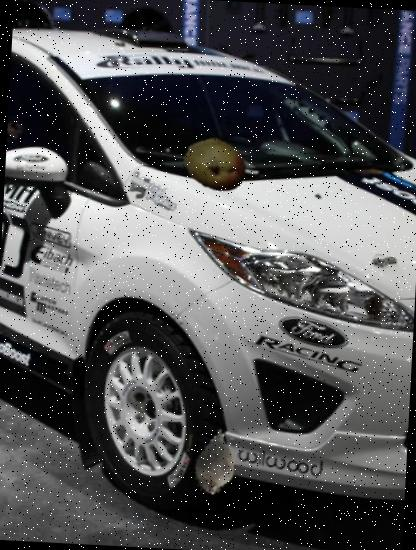Beetroot: (179, 425, 252, 498)
Papaya: (183, 131, 250, 198)
